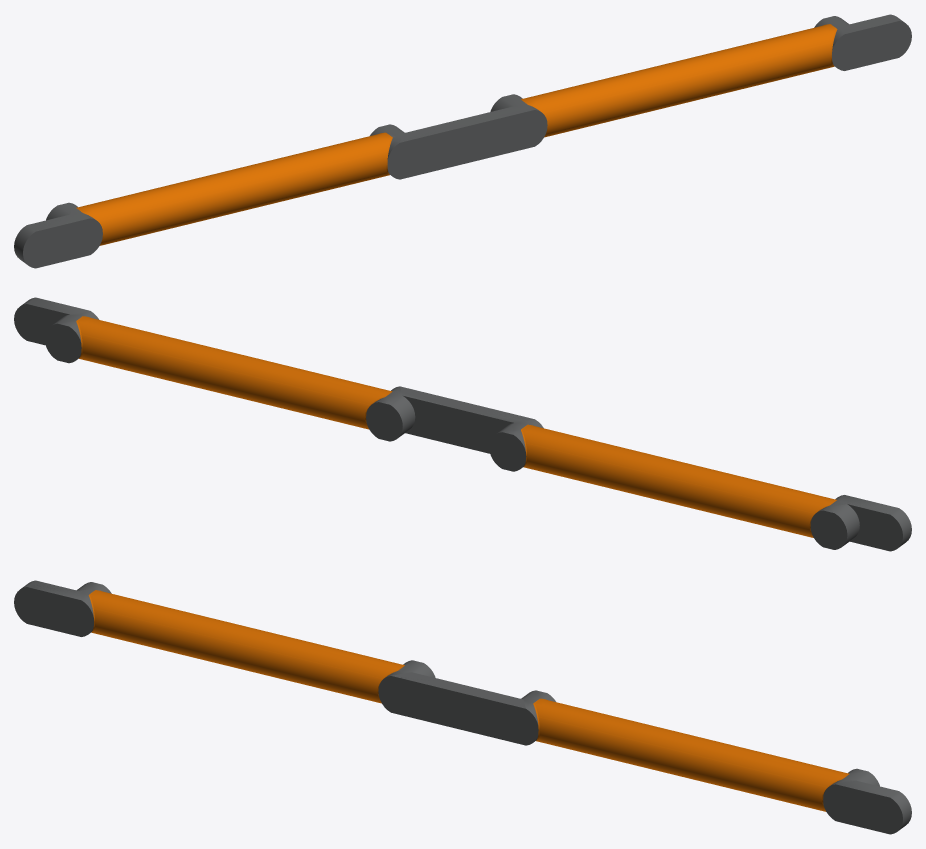
3 renders of one model, top to bottom at view 1: azimuth 30°, elevation 25°; view 2: azimuth 150°, elevation 25°; view 3: azimuth 330°, elevation 25°, orthographic.
Parts seen in each view (by area): view 1: l4_LOD0, l4_col; view 2: l4_LOD0, l4_col; view 3: l4_LOD0, l4_col.
Part boxes in pixels (x1,y1,x2,y2): l4_LOD0: (14, 14, 911, 268); l4_col: (23, 15, 911, 268); l4_LOD0: (14, 297, 911, 551); l4_col: (15, 304, 901, 550); l4_LOD0: (14, 580, 911, 834); l4_col: (14, 581, 902, 833).
Size of what is drawn, in the model's own units: 288 by 11.93 by 12.
